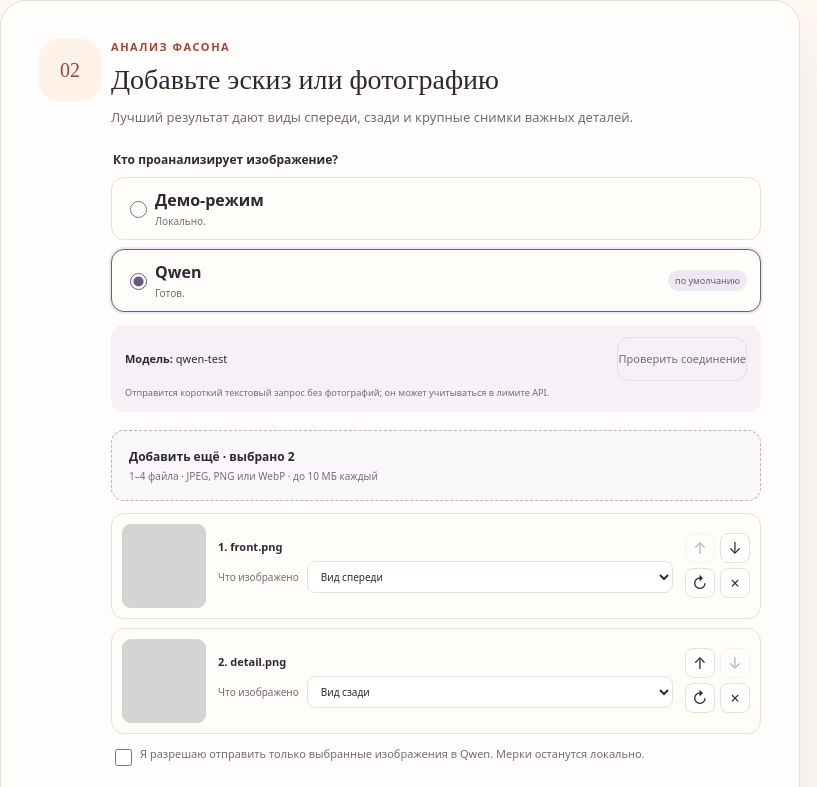
Test: stage 23 photo and AI workspace › labels and reorders previews, checks the provider without images
Earlier steps of the test are not shown.
Check: the dropdown named "вид изображения 1" shows "Вид спереди", box [307,561,673,593]
Select "Крупная деталь" in the dropdown named "вид изображения 2": (490, 692) [307,676,673,708]
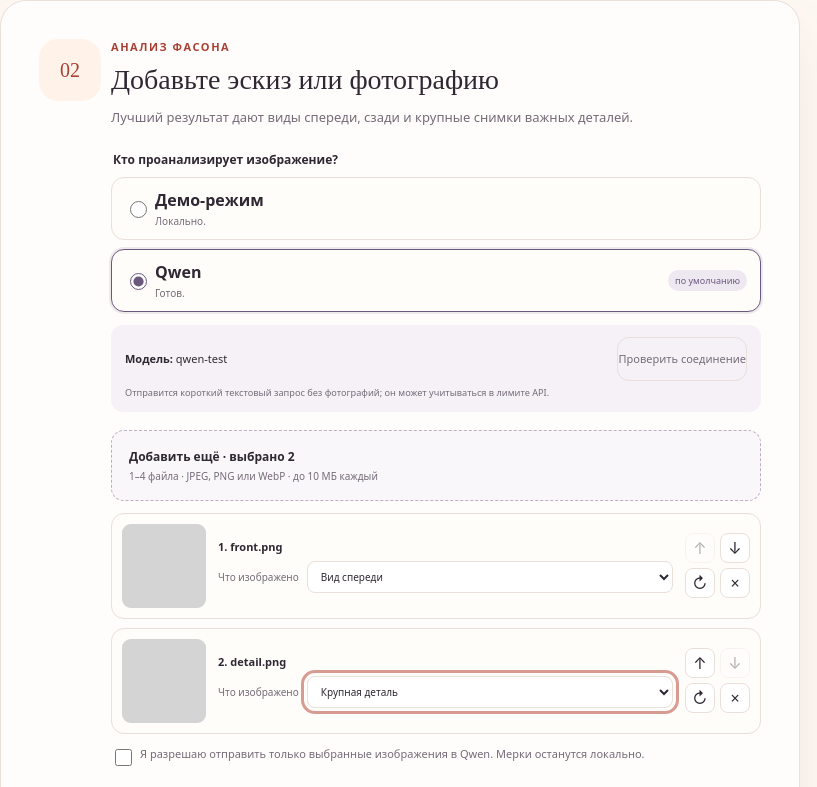
Click the button named "поднять изображение 2": (700, 663) [685,648,715,678]
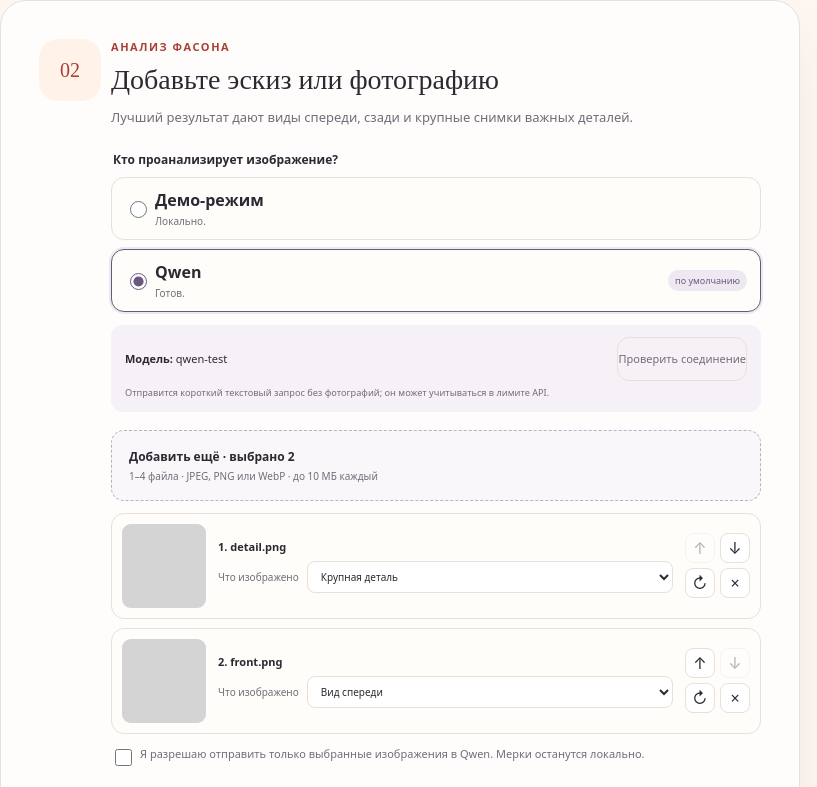
Check: the text "1. detail.png" is shown, box [218,539,286,554]
Click the button named "повернуть изображение 1": (700, 583) [685,568,715,598]
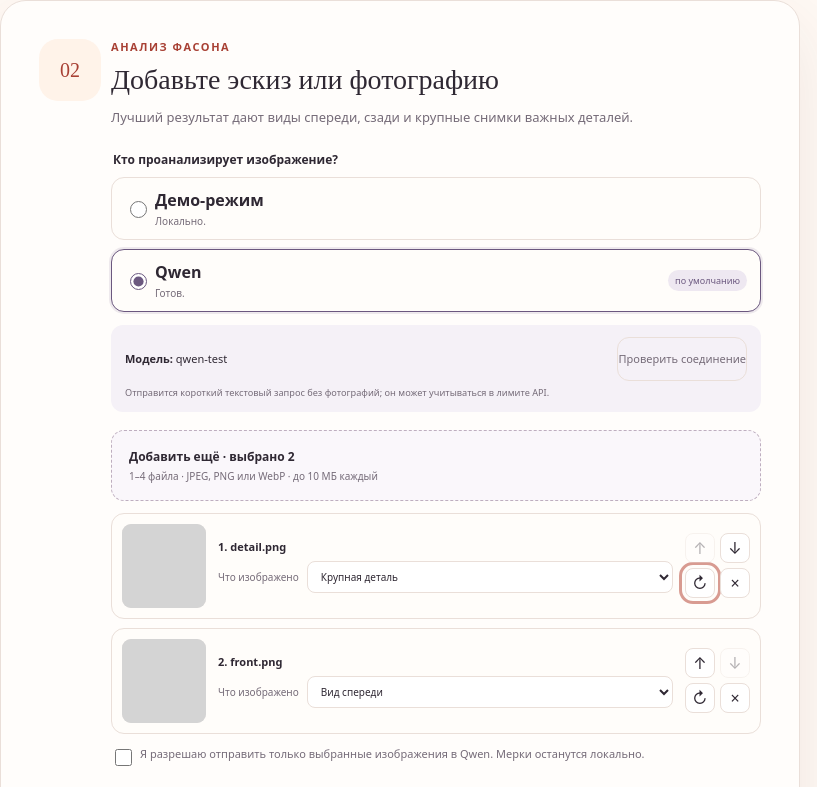
Click the button "Проверить соединение": (682, 359) [617,337,747,381]
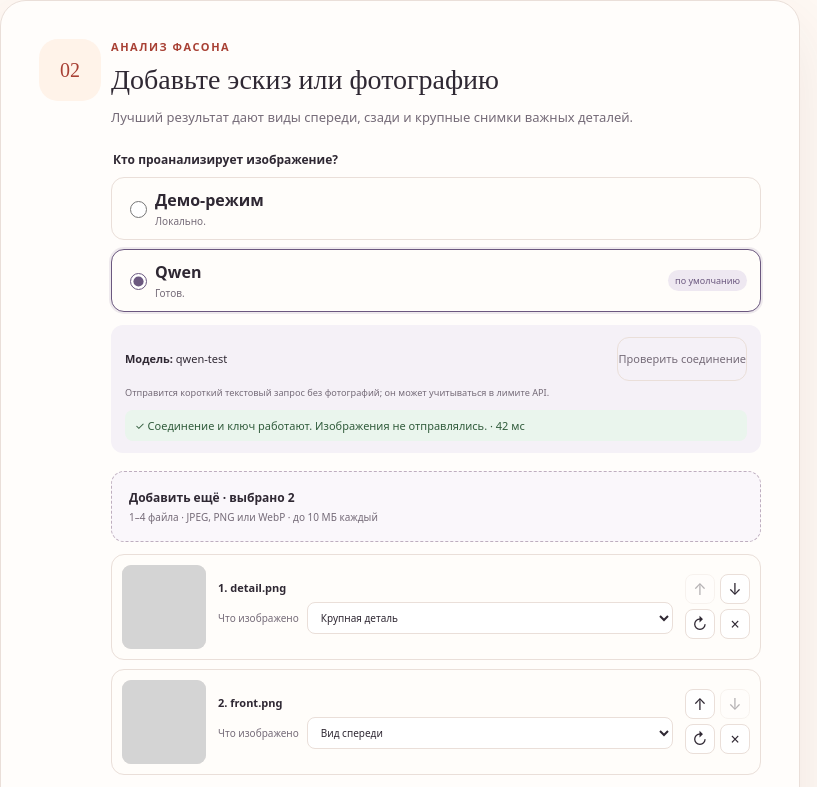
Check: the text "✓ Соединение и ключ работают. Изображения не отправлялись. · 42 мс" is shown, box [125,410,747,441]
